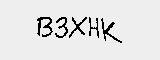В: (36, 15, 54, 39)
З: (54, 14, 68, 41)
К: (100, 17, 119, 44)
Н: (88, 15, 100, 40)
Х: (71, 13, 90, 39)
